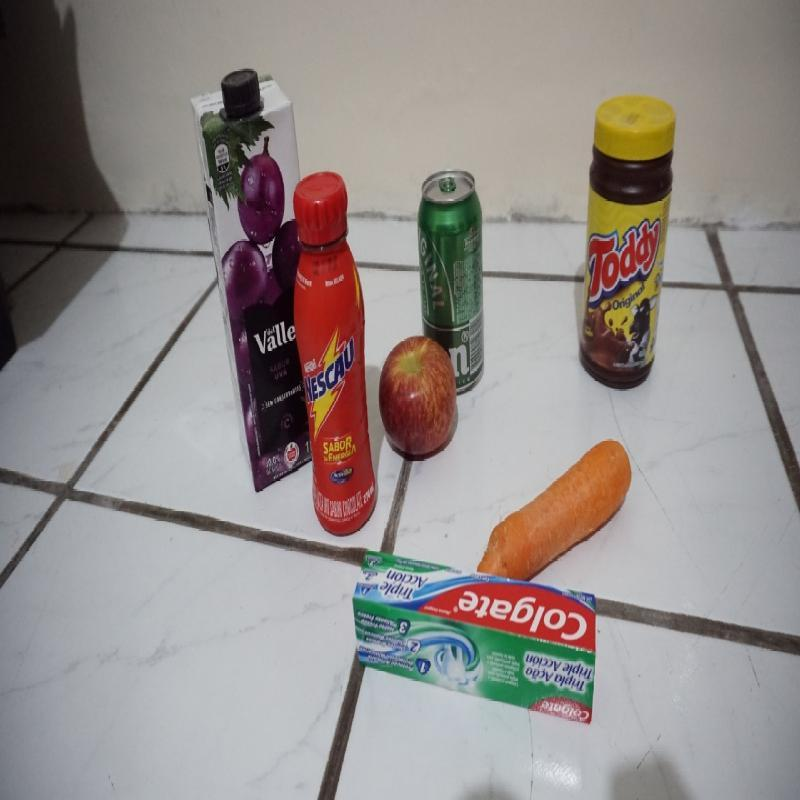Apple: (376, 333, 456, 458)
Beer can: (418, 169, 484, 398)
Carrot: (474, 436, 634, 577)
Chocolate Milk: (289, 173, 376, 535)
Chocolate Powder: (579, 96, 677, 388)
Toothpaste: (351, 547, 596, 727)
